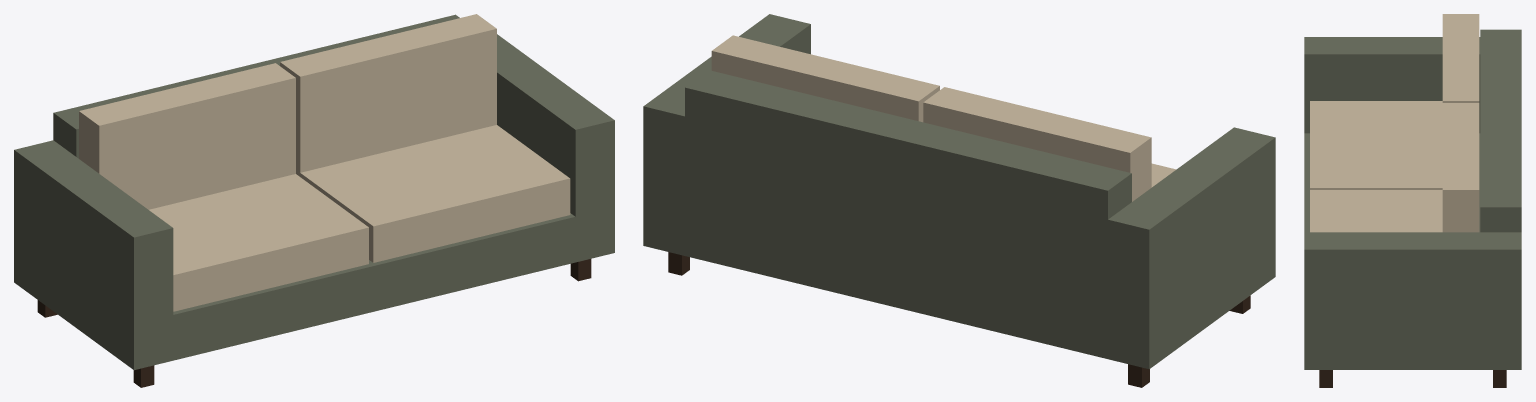
The model's file is sofa.glb.
3 renders of one model, left to right at view 1: azimuth 30°, elevation 25°; view 2: azimuth 150°, elevation 25°; view 3: azimuth 270°, elevation 25°, orthographic. The views are drawn at different scales.
Parts seen in each view (by area): view 1: Frame_Base, Back_Cushion_Right, Back_Cushion_Left, Seat_Cushion_Right, Seat_Cushion_Left, Frame_Arm_Left, Frame_Arm_Right, Frame_Back; view 2: Frame_Back, Frame_Base, Frame_Arm_Left, Back_Cushion_Left, Back_Cushion_Right, Frame_Arm_Right; view 3: Frame_Arm_Right, Seat_Cushion_Left, Frame_Base, Frame_Arm_Left, Frame_Back, Seat_Cushion_Right, Back_Cushion_Right, Back_Cushion_Left, Leg_FR, Leg_BR.
Part boxes in pixels (left/top/right/bottom): Frame_Base: left=14, top=207, right=614, bottom=370; Back_Cushion_Right: left=280, top=14, right=496, bottom=172; Back_Cushion_Left: left=79, top=63, right=295, bottom=209; Seat_Cushion_Right: left=296, top=125, right=570, bottom=262; Seat_Cushion_Left: left=149, top=174, right=368, bottom=311; Frame_Arm_Left: left=14, top=140, right=173, bottom=324; Frame_Arm_Right: left=497, top=34, right=614, bottom=216; Frame_Back: left=53, top=14, right=459, bottom=158; Frame_Back: left=685, top=70, right=1131, bottom=310; Frame_Base: left=643, top=198, right=1275, bottom=369; Frame_Arm_Left: left=1108, top=127, right=1275, bottom=320; Back_Cushion_Left: left=923, top=87, right=1151, bottom=201; Back_Cushion_Right: left=711, top=35, right=939, bottom=122; Frame_Arm_Right: left=643, top=14, right=810, bottom=207; Frame_Arm_Right: left=1304, top=232, right=1521, bottom=328; Seat_Cushion_Left: left=1310, top=101, right=1442, bottom=189; Frame_Base: left=1304, top=133, right=1521, bottom=369; Frame_Arm_Left: left=1304, top=37, right=1480, bottom=133; Frame_Back: left=1480, top=29, right=1521, bottom=232; Seat_Cushion_Right: left=1310, top=190, right=1442, bottom=232; Back_Cushion_Right: left=1442, top=103, right=1479, bottom=232; Back_Cushion_Left: left=1442, top=14, right=1479, bottom=102; Leg_FR: left=1319, top=370, right=1332, bottom=387; Leg_BR: left=1493, top=370, right=1506, bottom=387.
Size of the model in its own units: 2.2 by 0.9 by 0.95.
